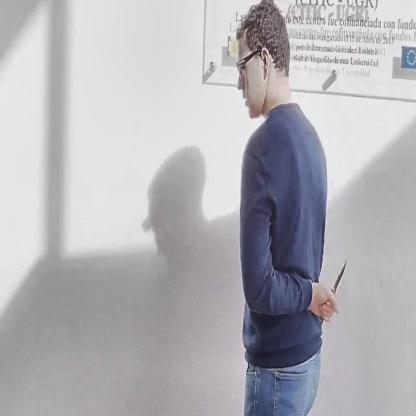knife: (320, 251, 350, 326)
